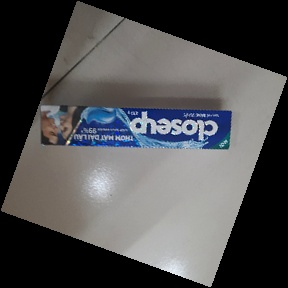CloseUp Tuyet: (37, 102, 235, 153)
